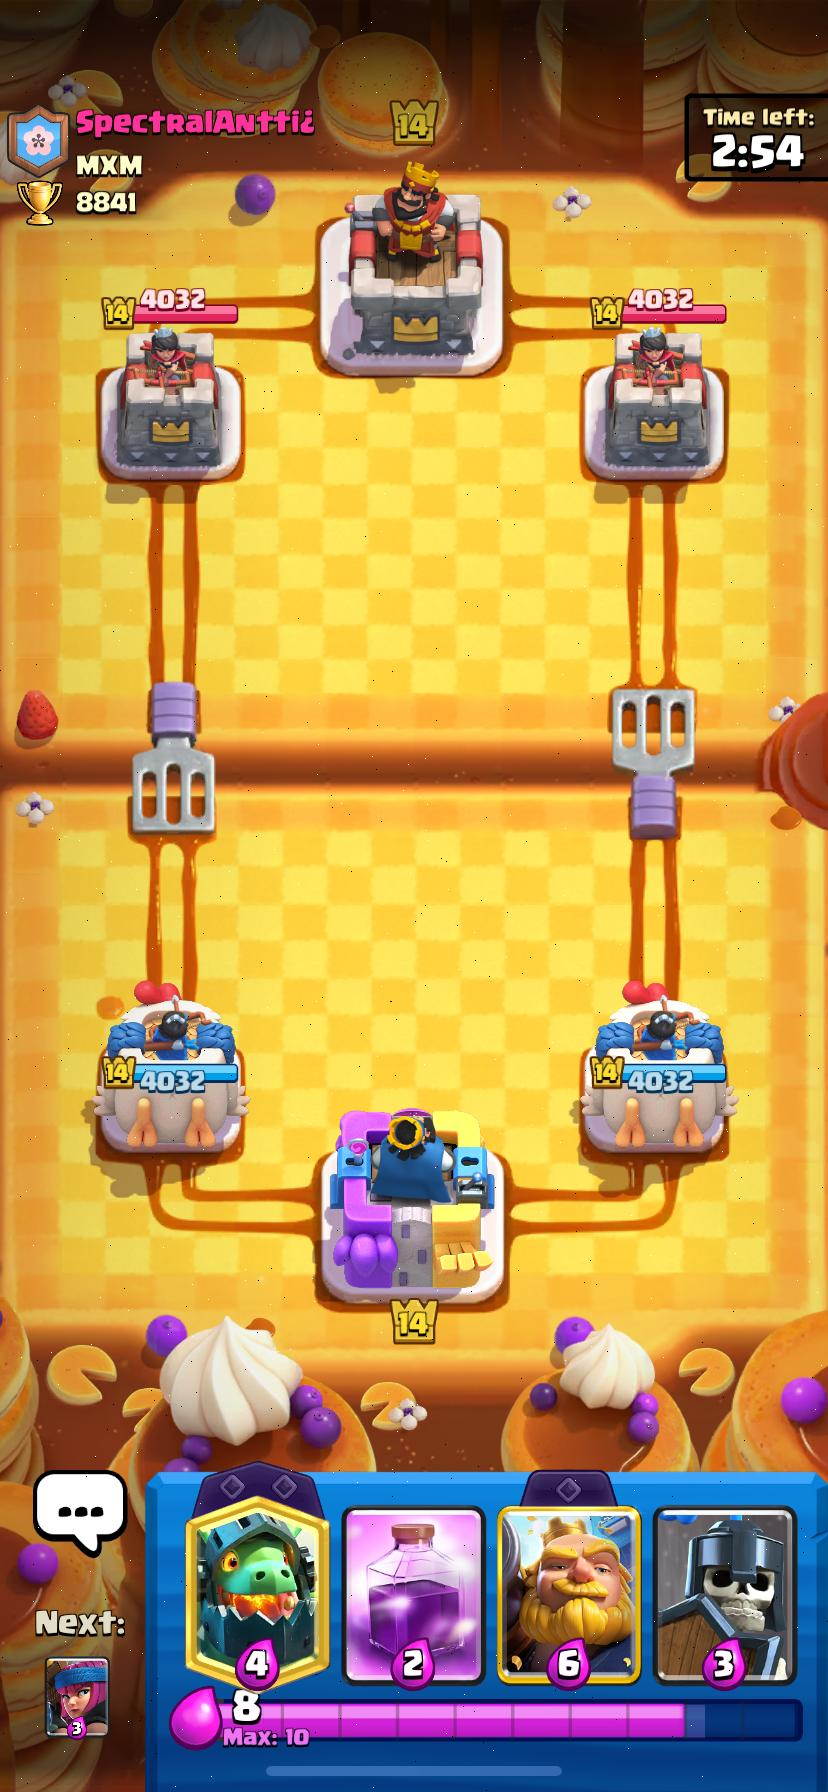EKingTower: (347, 163, 483, 373)
EnemyPrincessTower: (101, 325, 240, 480), (583, 328, 723, 481)
OwnKingTower: (321, 1109, 503, 1303)
OwnPrincessTower: (580, 982, 735, 1154), (93, 982, 248, 1152)
